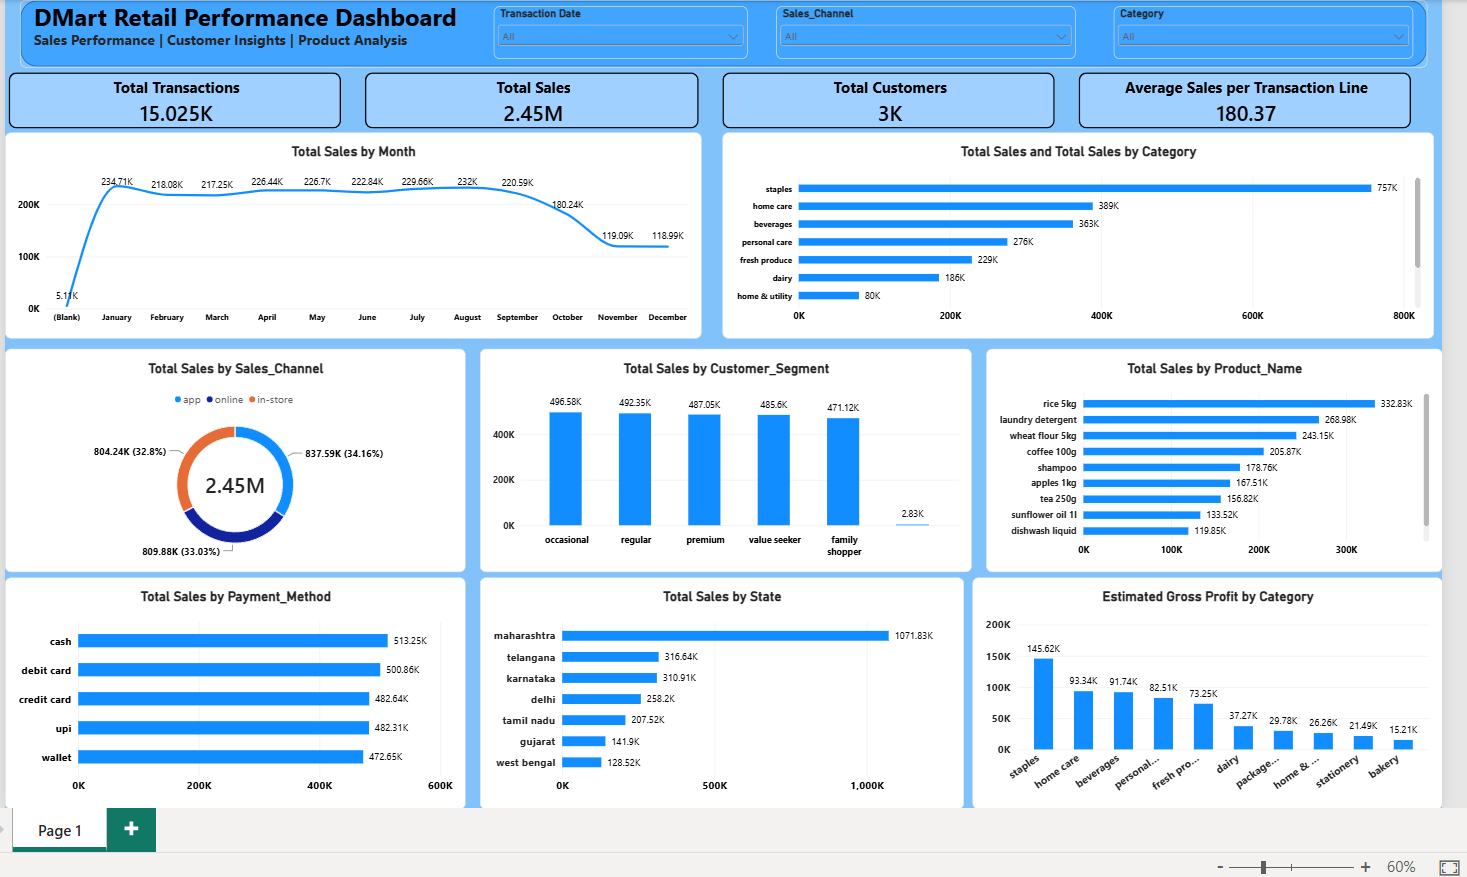

The dashboard page shown, as its layout file describes it:
{"tool":"powerbi","page":{"name":"Page 1","canvas":[1920,1080],"ordinal":0},"visuals":[{"type":"shape","box":[20,0,1880,90],"z":0},{"type":"textbox","box":[38,0,578,108.4],"z":1000},{"type":"textbox","box":[38,39.9,577.4,53.2],"z":2000},{"type":"cardVisual","title":"Total Transactions","fields":{"Data":["Count(DMart_Transactions_Cleaned.Transaction_ID)"]},"box":[0,92.3,454.2,85.1],"z":3000},{"type":"cardVisual","title":"Total Sales","fields":{"Data":["Table.Total Sales"]},"box":[475.9,92.3,456,85.1],"z":4000},{"type":"cardVisual","title":"Total Customers","fields":{"Data":["Table.Total Customers"]},"box":[953.7,92.3,454.2,85.1],"z":5000},{"type":"cardVisual","title":"Avg Sales Per Transaction","fields":{"Data":["Table.Average Sales per Transaction Line"]},"box":[1429.6,92.3,454.2,85.1],"z":6000},{"type":"lineChart","fields":{"Category":["DMart_Transactions_Cleaned.Transaction_Date_Parsed.Variation.Date Hierarchy.Month"],"Y":["Table.Total Sales"]},"box":[0,177.3,930.2,275.1],"z":7000},{"type":"clusteredBarChart","fields":{"Category":["DMart_Products_Cleaned.Category"],"Y":["Table.Total Sales"]},"box":[959.1,177.3,950.1,275.1],"z":8000},{"type":"donutChart","fields":{"Category":["DMart_Transactions_Cleaned.Sales_Channel"],"Y":["Table.Total Sales"]},"box":[0,465.1,615.3,298.6],"z":9000},{"type":"clusteredBarChart","fields":{"Category":["DMart_Products_Cleaned.Product_Name"],"Y":["Table.Total Sales"]},"box":[1311.2,465.2,609.3,298.5],"z":10000},{"type":"clusteredColumnChart","fields":{"Category":["DMart_Customers_Cleaned.Customer_Segment"],"Y":["Table.Total Sales"]},"box":[635.2,465.1,656.9,298.6],"z":11000},{"type":"slicer","fields":{"Values":["DMart_Transactions_Cleaned.Transaction_Date.Variation.Date Hierarchy.Year","DMart_Transactions_Cleaned.Transaction_Date.Variation.Date Hierarchy.Month"]},"box":[653.3,9,339,70],"z":12000},{"type":"slicer","fields":{"Values":["DMart_Transactions_Cleaned.Sales_Channel"]},"box":[1029.7,9,400,70],"z":13000},{"type":"slicer","fields":{"Values":["DMart_Products_Cleaned.Category"]},"box":[1480.3,9,400,70],"z":14000},{"type":"clusteredBarChart","fields":{"Category":["DMart_Transactions_Cleaned.Payment_Method"],"Y":["Table.Total Sales"]},"box":[0,770.9,615.3,309.5],"z":15000},{"type":"clusteredBarChart","fields":{"Category":["DMart_Customers_Cleaned.State"],"Y":["Table.Total Sales"]},"box":[635.2,770.9,646,309.5],"z":16000},{"type":"clusteredColumnChart","fields":{"Category":["DMart_Products_Cleaned.Category"],"Y":["Table.Estimated Gross Profit"]},"box":[1292.1,770.9,628,309.5],"z":17000}]}

Visuals, with their boxes in screenshot pixels (x1, y1, x2, y2):
shape: <region>11, 57, 1428, 125</region>
textbox: <region>25, 57, 460, 139</region>
textbox: <region>25, 87, 460, 127</region>
"Total Transactions" cardVisual: <region>0, 127, 338, 191</region>
"Total Sales" cardVisual: <region>355, 127, 698, 191</region>
"Total Customers" cardVisual: <region>715, 127, 1057, 191</region>
"Avg Sales Per Transaction" cardVisual: <region>1073, 127, 1416, 191</region>
lineChart - DMart_Transactions_Cleaned.Transaction_Date_Parsed.Variation.Date Hierarchy.Month x Table.Total Sales: <region>0, 191, 697, 398</region>
clusteredBarChart - DMart_Products_Cleaned.Category x Table.Total Sales: <region>719, 191, 1435, 398</region>
donutChart - DMart_Transactions_Cleaned.Sales_Channel x Table.Total Sales: <region>0, 408, 460, 633</region>
clusteredBarChart - DMart_Products_Cleaned.Product_Name x Table.Total Sales: <region>984, 408, 1443, 633</region>
clusteredColumnChart - DMart_Customers_Cleaned.Customer_Segment x Table.Total Sales: <region>475, 408, 970, 633</region>
slicer - DMart_Transactions_Cleaned.Transaction_Date.Variation.Date Hierarchy.Year x DMart_Transactions_Cleaned.Transaction_Date.Variation.Date Hierarchy.Month: <region>488, 64, 744, 117</region>
slicer - DMart_Transactions_Cleaned.Sales_Channel: <region>772, 64, 1073, 117</region>
slicer - DMart_Products_Cleaned.Category: <region>1112, 64, 1413, 117</region>
clusteredBarChart - DMart_Transactions_Cleaned.Payment_Method x Table.Total Sales: <region>0, 638, 460, 871</region>
clusteredBarChart - DMart_Customers_Cleaned.State x Table.Total Sales: <region>475, 638, 962, 871</region>
clusteredColumnChart - DMart_Products_Cleaned.Category x Table.Estimated Gross Profit: <region>970, 638, 1443, 871</region>
